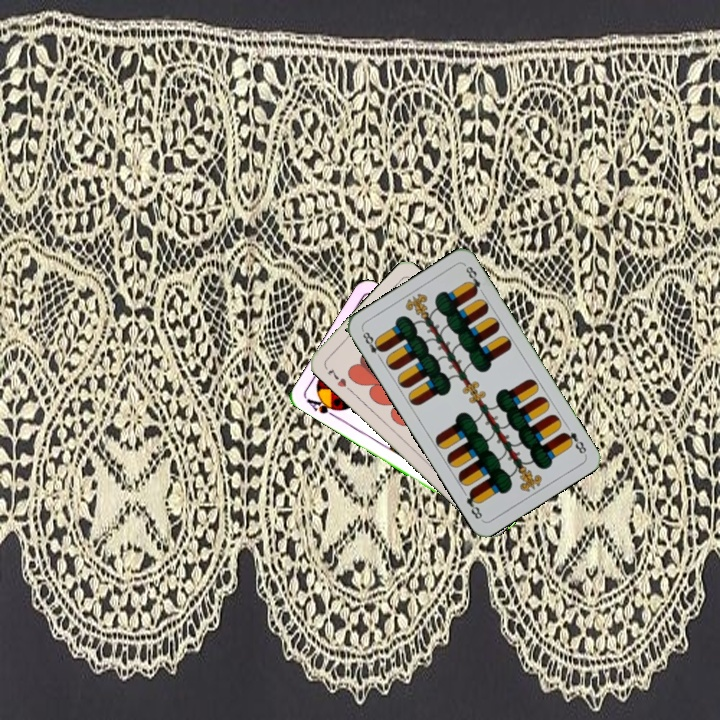E8: (358, 326, 387, 363), (559, 428, 589, 456)
H7: (323, 364, 349, 390)
SA: (303, 392, 343, 421)
